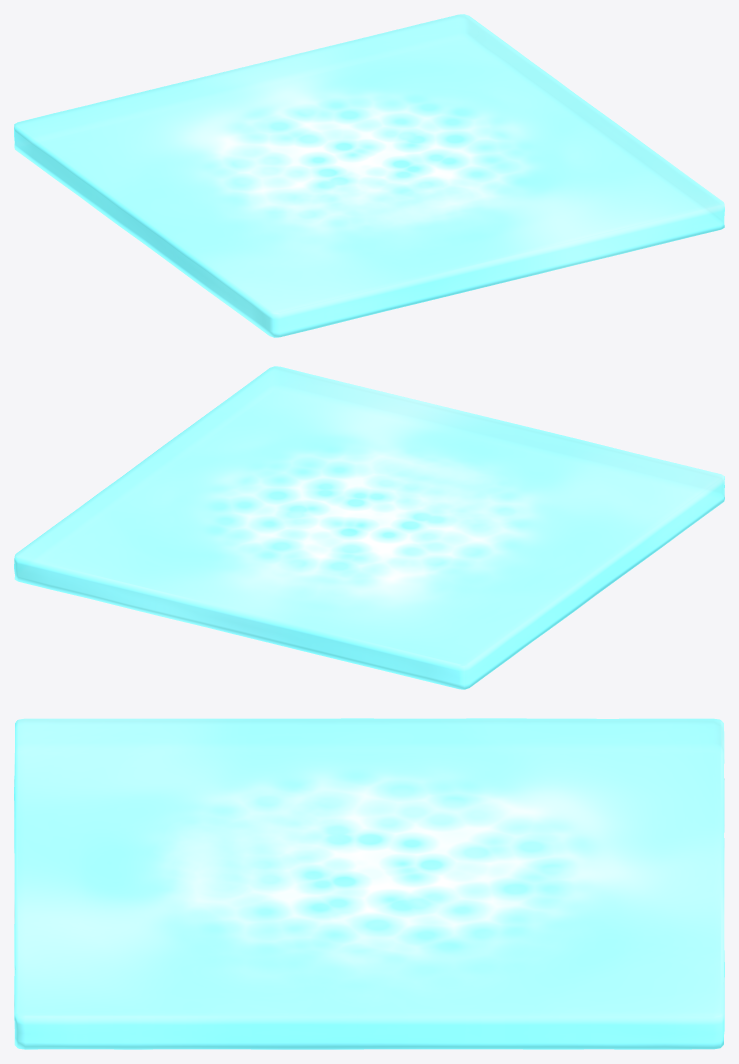
Rendered from ocean_model.glb.
The picture shows the model from 3 angles, top to bottom: view 1: azimuth 30°, elevation 25°; view 2: azimuth 150°, elevation 25°; view 3: azimuth 270°, elevation 25°; orthographic projection. The views are drawn at different scales.
Visible parts, largest first — view 1: Plane.250_Plane.2737_Material.047; view 2: Plane.250_Plane.2737_Material.047; view 3: Plane.250_Plane.2737_Material.047.
Part boxes in pixels (x1,y1,x2,y2): Plane.250_Plane.2737_Material.047: (14,14,724,337); Plane.250_Plane.2737_Material.047: (14,366,724,689); Plane.250_Plane.2737_Material.047: (14,718,724,1049).
Size of the model in its own units: 535 by 31.28 by 535.
